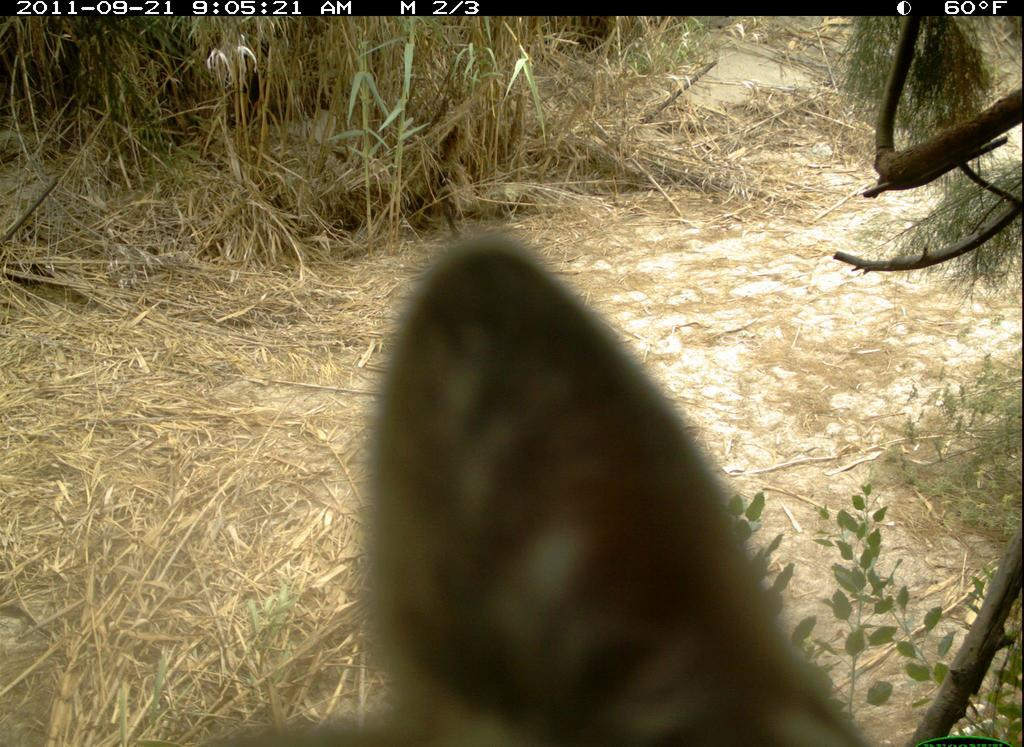bobcat: (184, 222, 900, 747)
